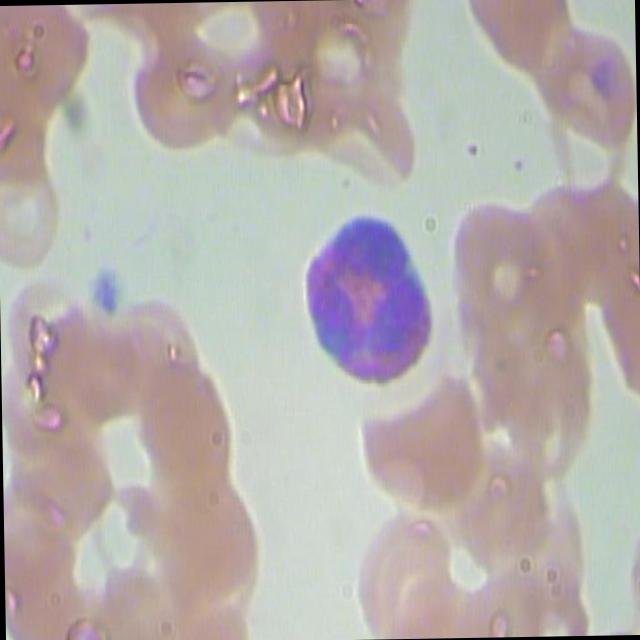Platelets: (89, 258, 135, 312)
RBC: (347, 370, 495, 514), (124, 22, 242, 160), (2, 410, 120, 548), (138, 346, 240, 496), (354, 488, 456, 638), (504, 322, 606, 472), (165, 465, 266, 615), (446, 186, 551, 328), (535, 72, 638, 214), (534, 9, 637, 151), (0, 131, 74, 271), (320, 93, 430, 184), (4, 536, 98, 640), (90, 553, 180, 640), (473, 0, 572, 76)
WBC: (284, 198, 442, 403)
